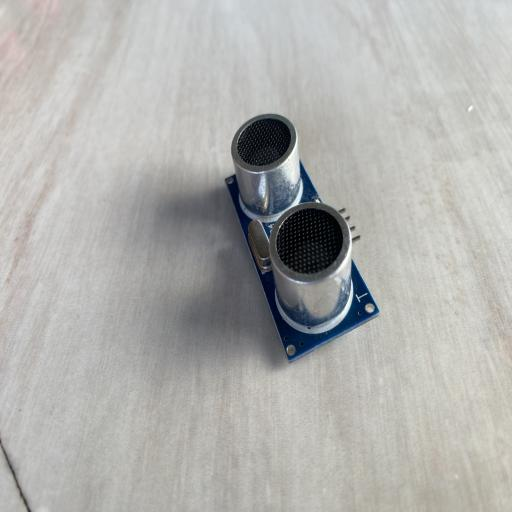Ultrasonic Sensor: (224, 113, 380, 365)
